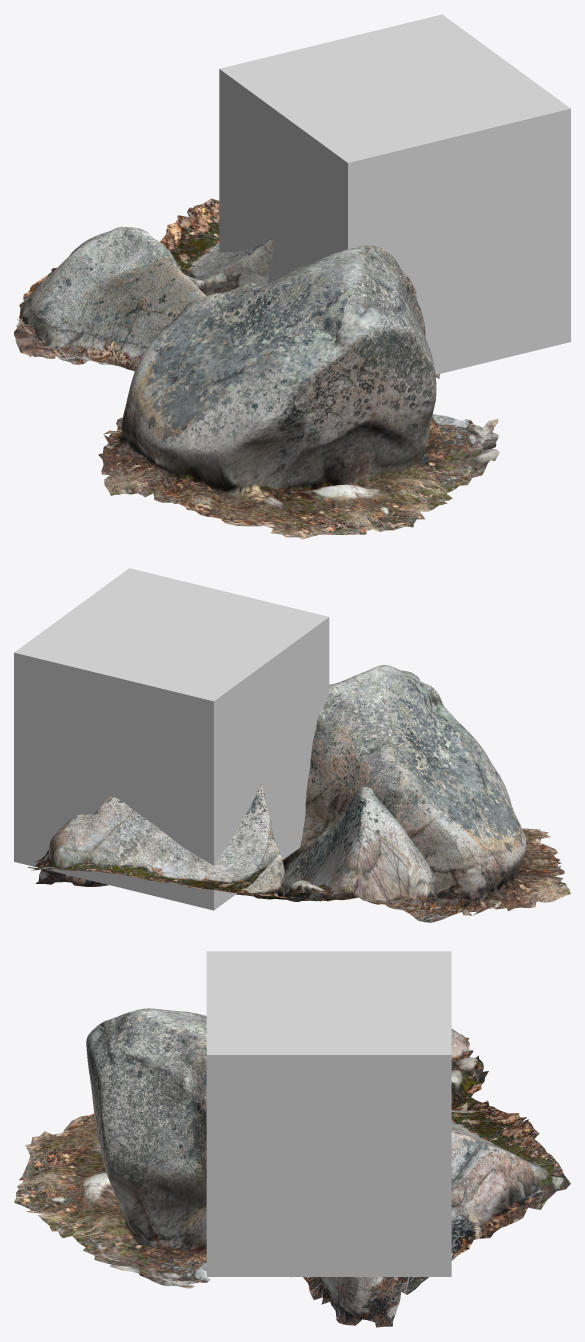
The model's file is splitBouldersWithSunrise.glb.
The picture shows the model from 3 angles, top to bottom: view 1: azimuth 30°, elevation 25°; view 2: azimuth 150°, elevation 25°; view 3: azimuth 270°, elevation 25°; orthographic projection. The views are drawn at different scales.
Visible parts, largest first — view 1: Cube, Scene.001, Scene; view 2: Cube, Scene.001, Scene; view 3: Cube, Scene.001, Scene.
Part boxes in pixels (left/top/right/bottom): Cube: left=219, top=14, right=570, bottom=374; Scene.001: left=98, top=245, right=499, bottom=539; Scene: left=14, top=198, right=439, bottom=378; Cube: left=14, top=568, right=329, bottom=910; Scene.001: left=283, top=665, right=570, bottom=922; Scene: left=28, top=783, right=470, bottom=904; Cube: left=206, top=951, right=451, bottom=1276; Scene.001: left=14, top=1008, right=210, bottom=1288; Scene: left=303, top=1029, right=570, bottom=1327.
Bounding box in the file's own units: 4.33 × 2.56 × 4.55.
4 materials, 2 textured.
